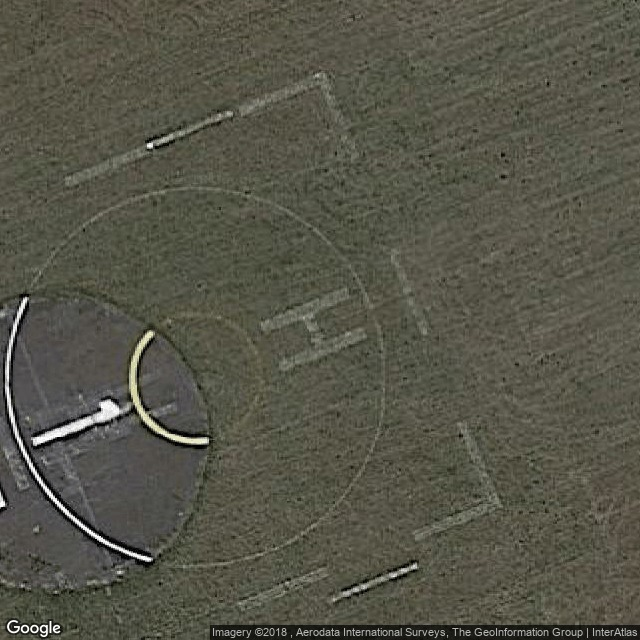heliport: (249, 271, 379, 383)
